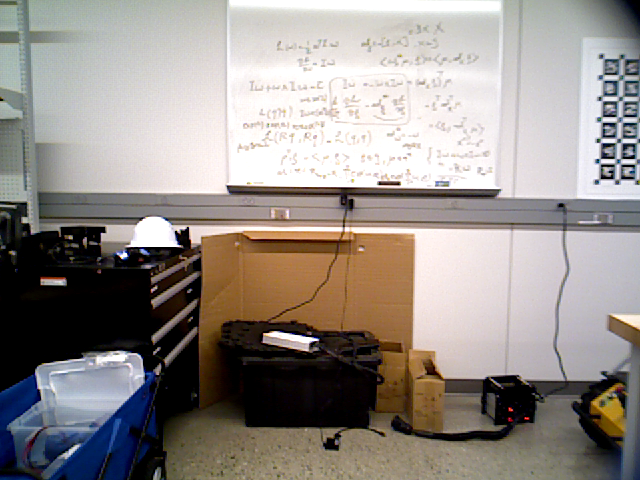painting4: (578, 37, 640, 200)
